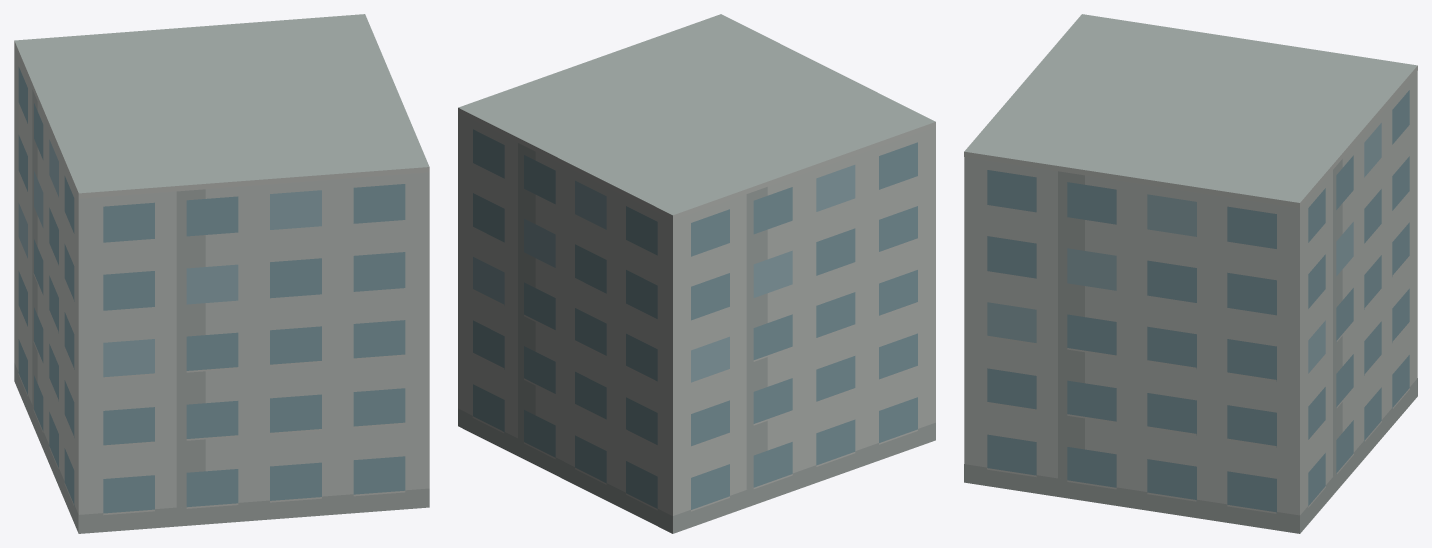
Rendered from residential-39411500-8ad2-4f1a-a9d4-bea4cf5874aa.glb.
The picture shows the model from 3 angles, left to right: view 1: azimuth 30°, elevation 25°; view 2: azimuth 150°, elevation 25°; view 3: azimuth 270°, elevation 25°; orthographic projection. The views are drawn at different scales.
Parts seen in each view (by area): view 1: residential-39411500-8ad2-4f1a-a9d4-bea4cf5874aa.tmp; view 2: residential-39411500-8ad2-4f1a-a9d4-bea4cf5874aa.tmp; view 3: residential-39411500-8ad2-4f1a-a9d4-bea4cf5874aa.tmp.
Part boxes in pixels (x1,y1,x2,y2): residential-39411500-8ad2-4f1a-a9d4-bea4cf5874aa.tmp: (14, 14, 429, 533); residential-39411500-8ad2-4f1a-a9d4-bea4cf5874aa.tmp: (458, 14, 935, 533); residential-39411500-8ad2-4f1a-a9d4-bea4cf5874aa.tmp: (964, 14, 1417, 533).
Bounding box in the file's own units: 18.69 × 15.25 × 18.96.
